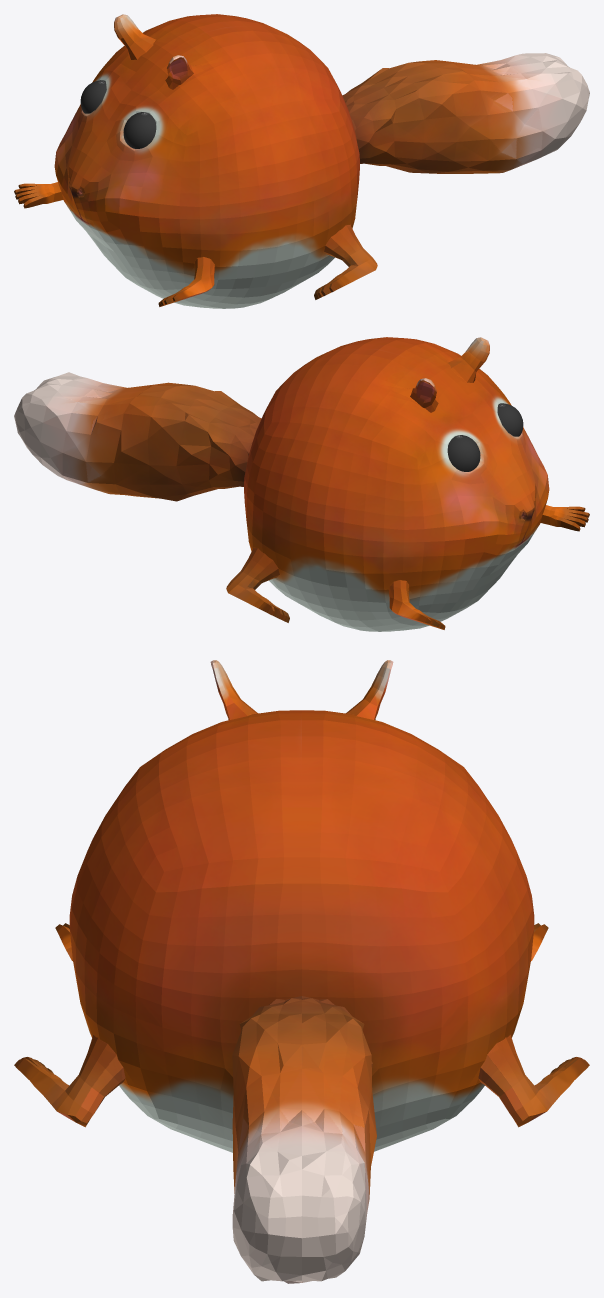
The model's file is Squirrel Ball BETA.fbx.
The picture shows the model from 3 angles, top to bottom: view 1: azimuth 30°, elevation 25°; view 2: azimuth 150°, elevation 25°; view 3: azimuth 270°, elevation 25°; orthographic projection. The views are drawn at different scales.
Parts seen in each view (by area): view 1: Ball Body, Ball Tail, Ball Eyes; view 2: Ball Body, Ball Tail, Ball Eyes; view 3: Ball Body, Ball Tail.
Part boxes in pixels (box(x1,y1,x2,y2)): Ball Body: box(14, 14, 377, 308); Ball Tail: box(342, 53, 589, 173); Ball Eyes: box(80, 80, 156, 148); Ball Body: box(226, 337, 589, 631); Ball Tail: box(14, 372, 261, 501); Ball Eyes: box(447, 403, 523, 471); Ball Body: box(14, 660, 589, 1152); Ball Tail: box(232, 996, 376, 1283).
Bounding box in the file's own units: 861 × 445 × 537.
Materials: 3 (3 with a texture image).
